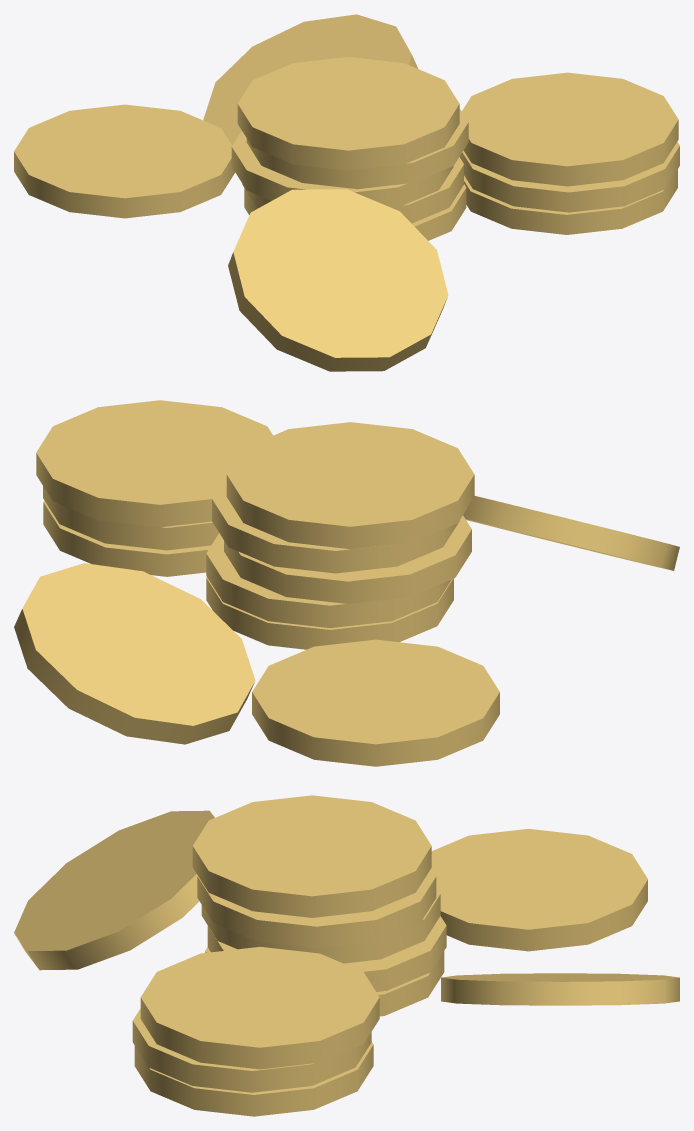
The model's file is coins.glb.
3 views of the same model, one above another, from view 1: azimuth 30°, elevation 25°; view 2: azimuth 150°, elevation 25°; view 3: azimuth 270°, elevation 25° (orthographic). The views are drawn at different scales.
Visible parts, largest first — view 1: gold; view 2: gold; view 3: gold.
Part boxes in pixels (x1=…): gold: x1=14, y1=14, x2=679, y2=371; gold: x1=14, y1=400, x2=679, y2=766; gold: x1=14, y1=795, x2=679, y2=1116.
Bounding box in the file's own units: 0.7963 × 0.2179 × 0.836.
